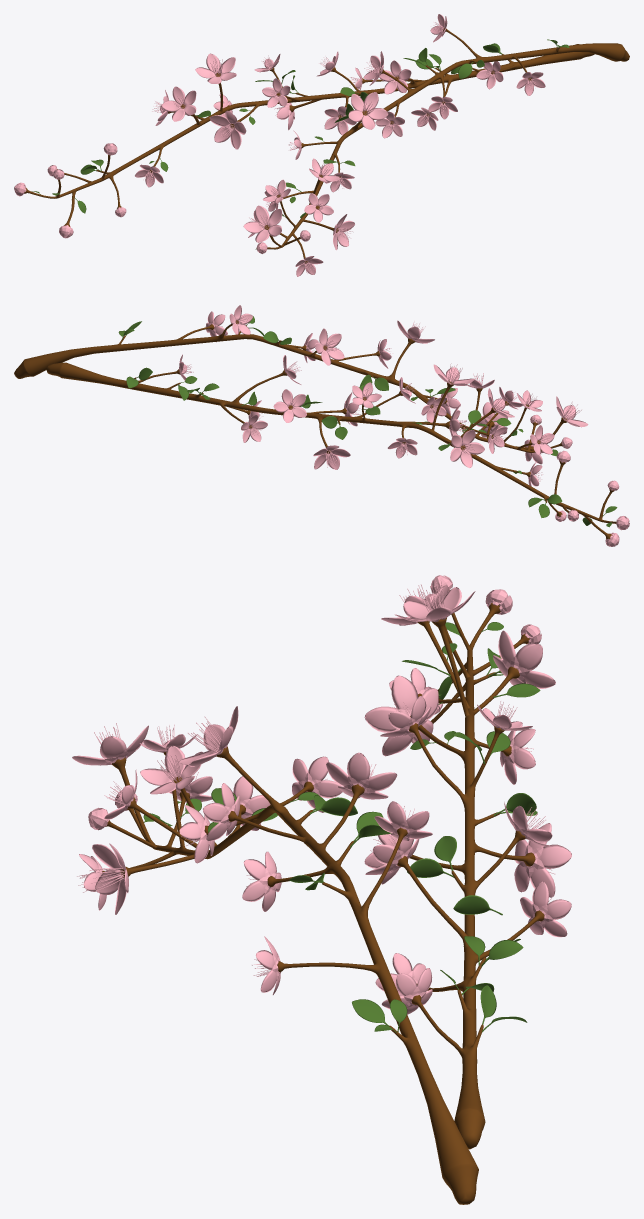
Rendered from Pokok Ceri(Batang Berkayu).glb.
3 views of the same model, one above another, from view 1: azimuth 30°, elevation 25°; view 2: azimuth 150°, elevation 25°; view 3: azimuth 270°, elevation 25° (orthographic). The views are drawn at different scales.
Visible parts, largest first — view 1: imagetostl_mesh0, imagetostl_mesh2, imagetostl_mesh1; view 2: imagetostl_mesh0, imagetostl_mesh2, imagetostl_mesh1; view 3: imagetostl_mesh0, imagetostl_mesh2, imagetostl_mesh1.
Part boxes in pixels (x1,y1,x2,y2): imagetostl_mesh0: (14, 14, 545, 276); imagetostl_mesh2: (24, 28, 629, 263); imagetostl_mesh1: (32, 39, 569, 249); imagetostl_mesh0: (179, 305, 629, 546); imagetostl_mesh2: (14, 320, 616, 539); imagetostl_mesh1: (118, 316, 617, 527); imagetostl_mesh0: (72, 575, 571, 1014); imagetostl_mesh2: (102, 590, 544, 1204); imagetostl_mesh1: (143, 622, 540, 1032).
Size of the model in its own units: 6.82 by 1.7 by 2.44.
